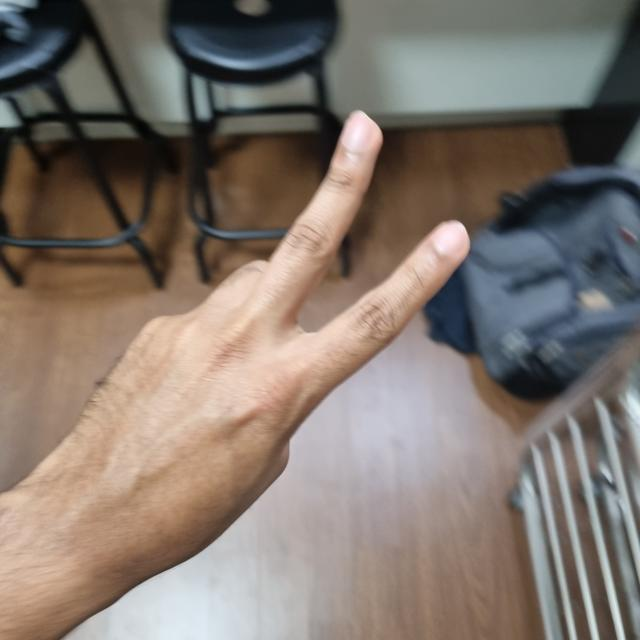Scissors: (32, 114, 468, 590)
